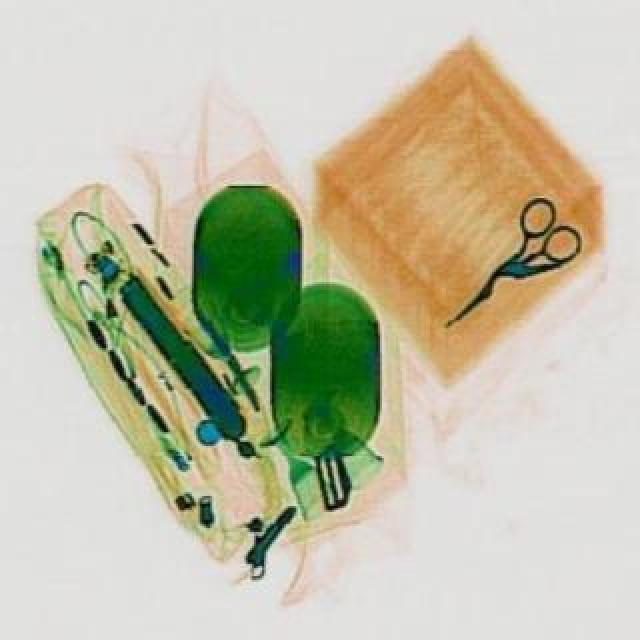pliers: (418, 198, 594, 354)
